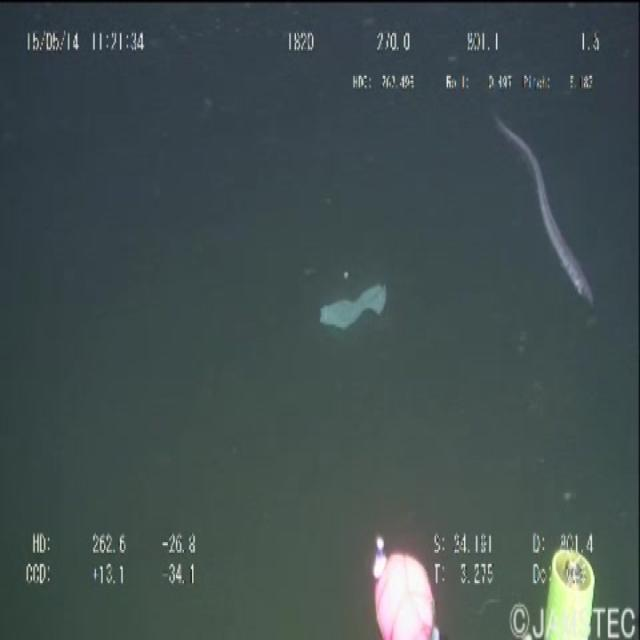Plastic: (310, 279, 396, 339)
